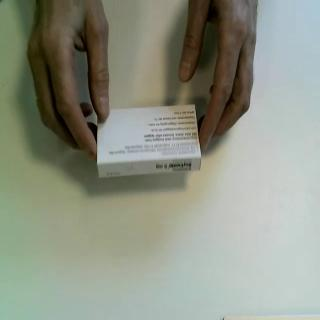oxycontin5mg: (96, 104, 204, 181)
